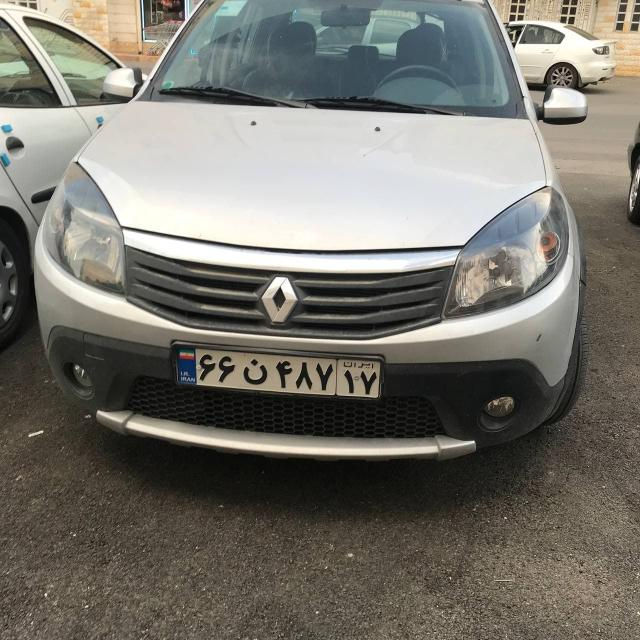Plates: (173, 346, 382, 399)
